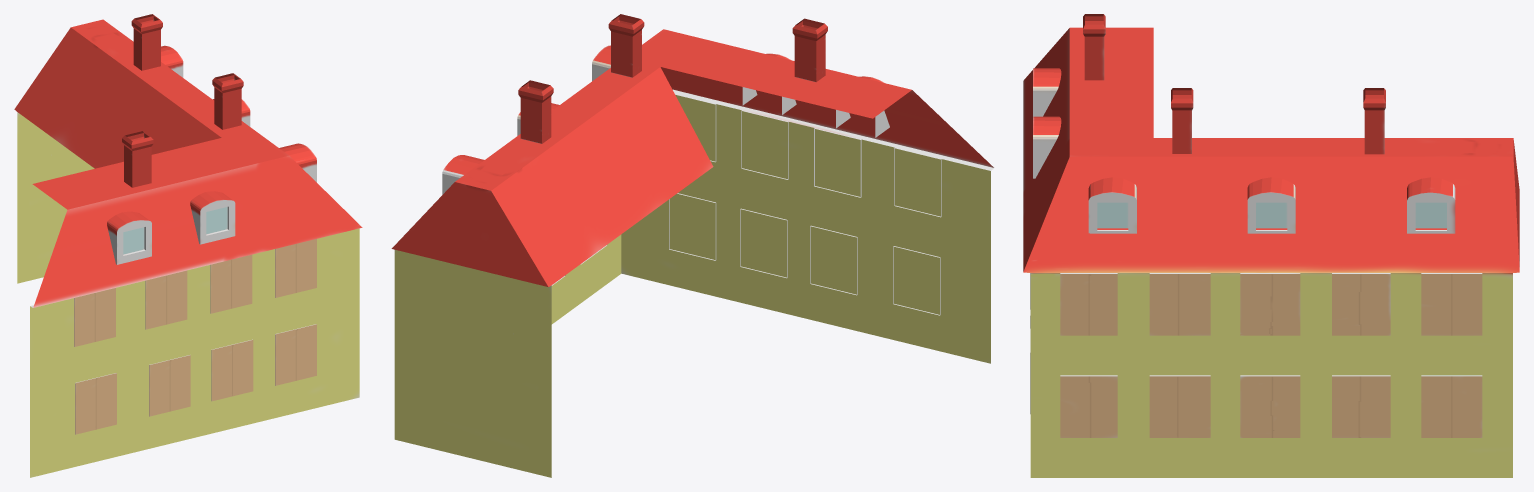
The model's file is House41.fbx.
3 views of the same model, side by side, from view 1: azimuth 30°, elevation 25°; view 2: azimuth 150°, elevation 25°; view 3: azimuth 270°, elevation 25° (orthographic). The views are drawn at different scales.
Parts seen in each view (by area): view 1: Cube; view 2: Cube; view 3: Cube.
Boxes of the visible parts, x1,y1,x2,y2 form: Cube: [14, 14, 362, 477]; Cube: [391, 14, 993, 477]; Cube: [1023, 14, 1519, 477].
Size of the model in its own units: 1891 by 1580 by 2059.
